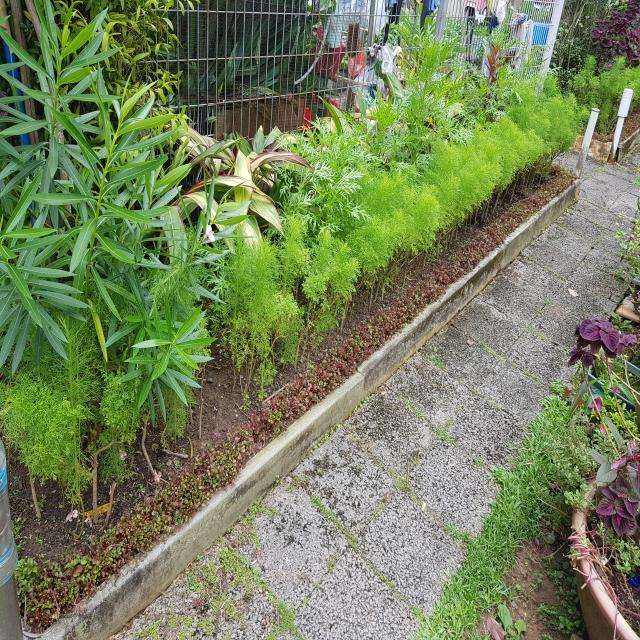Coleus: (566, 318, 637, 370), (596, 477, 640, 544)
Dill: (340, 172, 450, 300), (233, 257, 288, 409), (437, 138, 522, 224), (306, 258, 372, 364), (527, 84, 587, 160)
